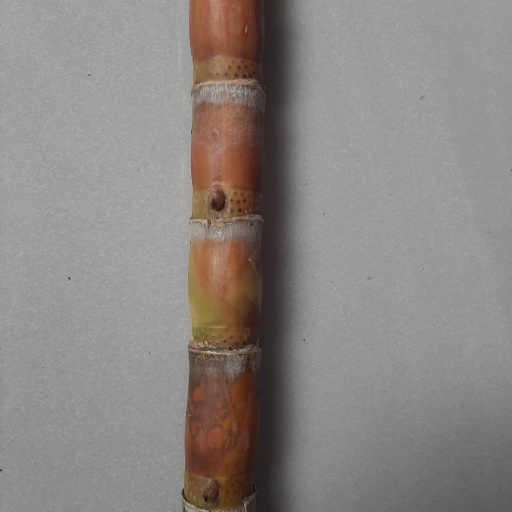Bud: (205, 187, 227, 213), (201, 476, 221, 504)
